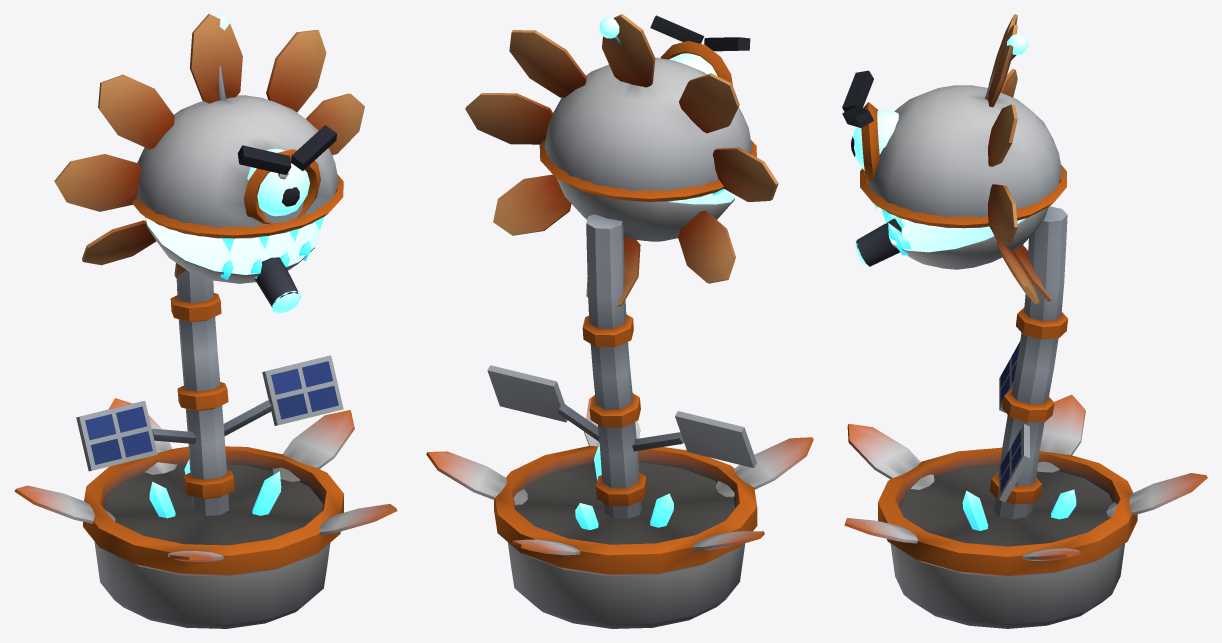
File: plant_space.glb
3 views of the same model, side by side, from view 1: azimuth 30°, elevation 25°; view 2: azimuth 150°, elevation 25°; view 3: azimuth 270°, elevation 25° (orthographic). The views are drawn at different scales.
Visible parts, largest first — view 1: base, head, stem, jaw; view 2: base, head, stem, jaw; view 3: base, head, stem, jaw.
Part boxes in pixels (<box>): base: <box>14,398,397,628</box>; head: <box>54,14,364,252</box>; stem: <box>76,270,343,515</box>; jaw: <box>82,217,321,313</box>; base: <box>426,395,813,628</box>; head: <box>465,14,778,202</box>; stem: <box>487,214,756,518</box>; jaw: <box>493,174,735,306</box>; base: <box>844,394,1207,628</box>; head: <box>842,14,1066,243</box>; stem: <box>989,206,1067,519</box>; jaw: <box>855,207,1052,304</box>.
Size of the model in its own units: 1.11 by 1.81 by 1.07.
